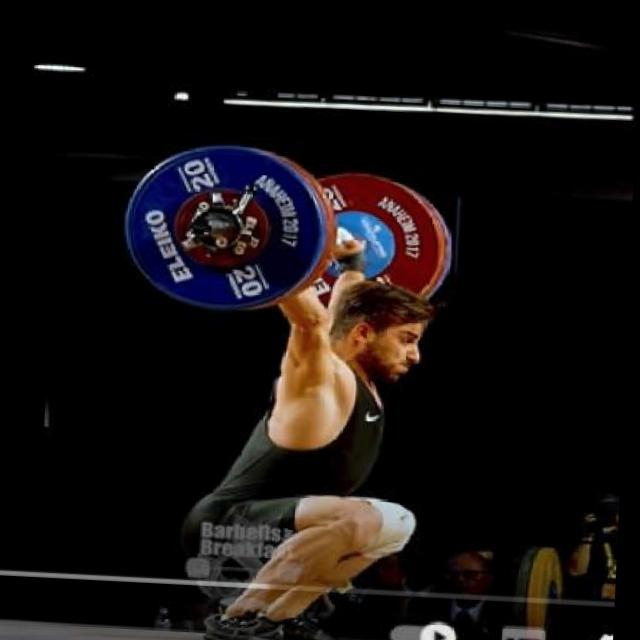barbell: (119, 132, 330, 319)
